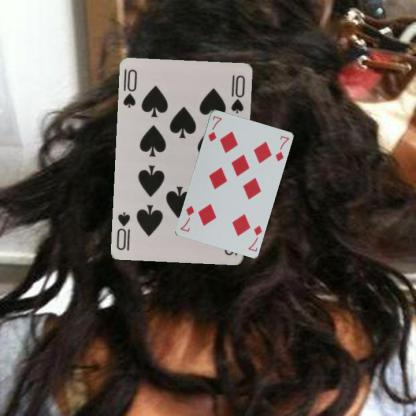10s: (121, 67, 138, 110)
7d: (245, 223, 264, 252), (205, 113, 223, 142)
